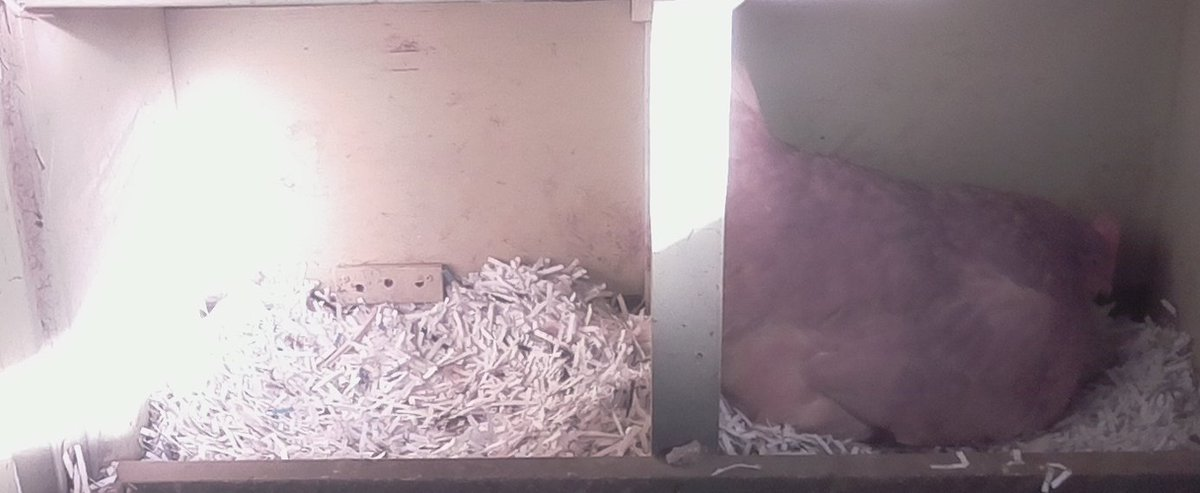hen: (734, 50, 1141, 452)
